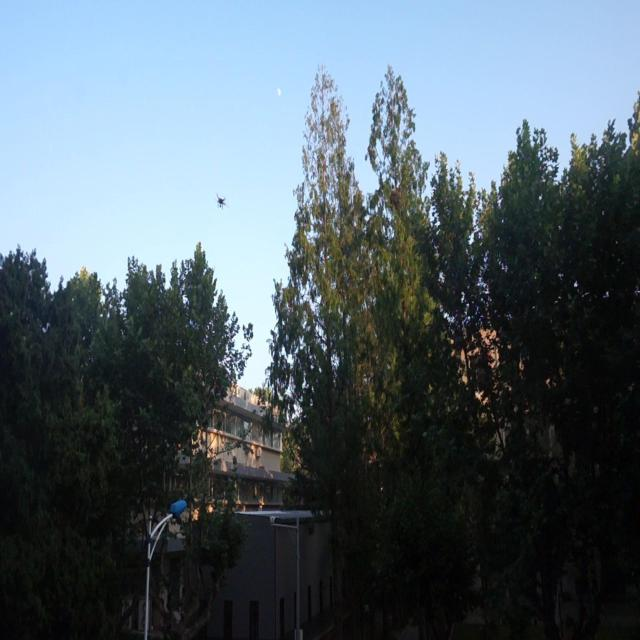drone: (212, 188, 230, 215)
